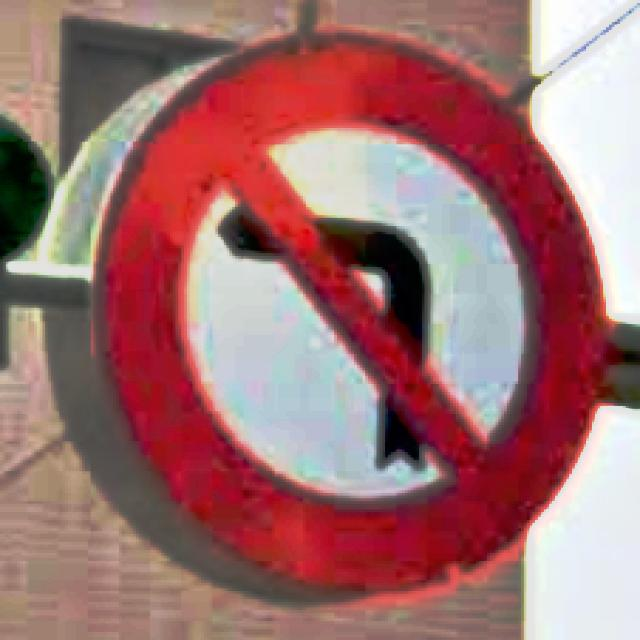noturnleft: (77, 27, 618, 602)
